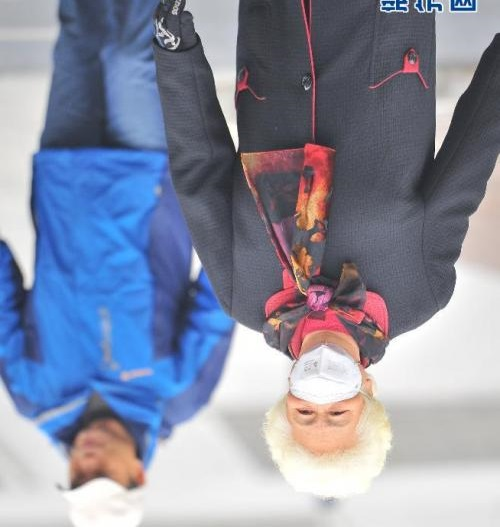person: (150, 2, 500, 504), (1, 1, 232, 519)
